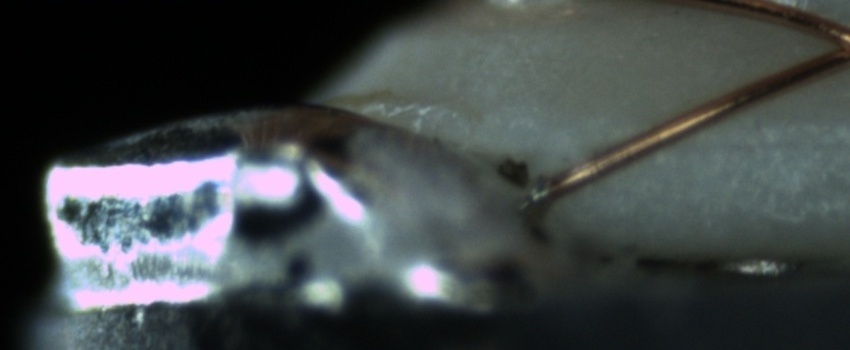CL: (803, 13, 850, 76)
DL: (676, 111, 850, 173)
